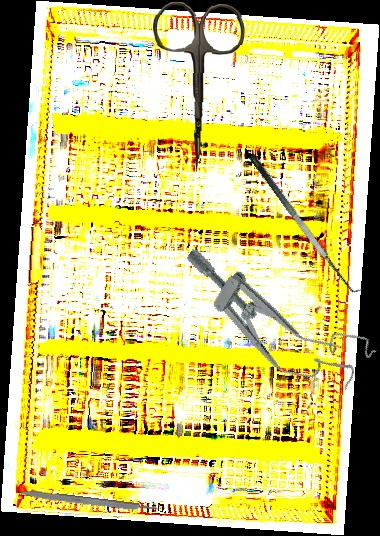Iris Scissors: (148, 1, 247, 174)
Scalpel Handle: (15, 488, 159, 515)
Spatula Surgical: (247, 144, 367, 301)
Speculum: (162, 234, 380, 409)
